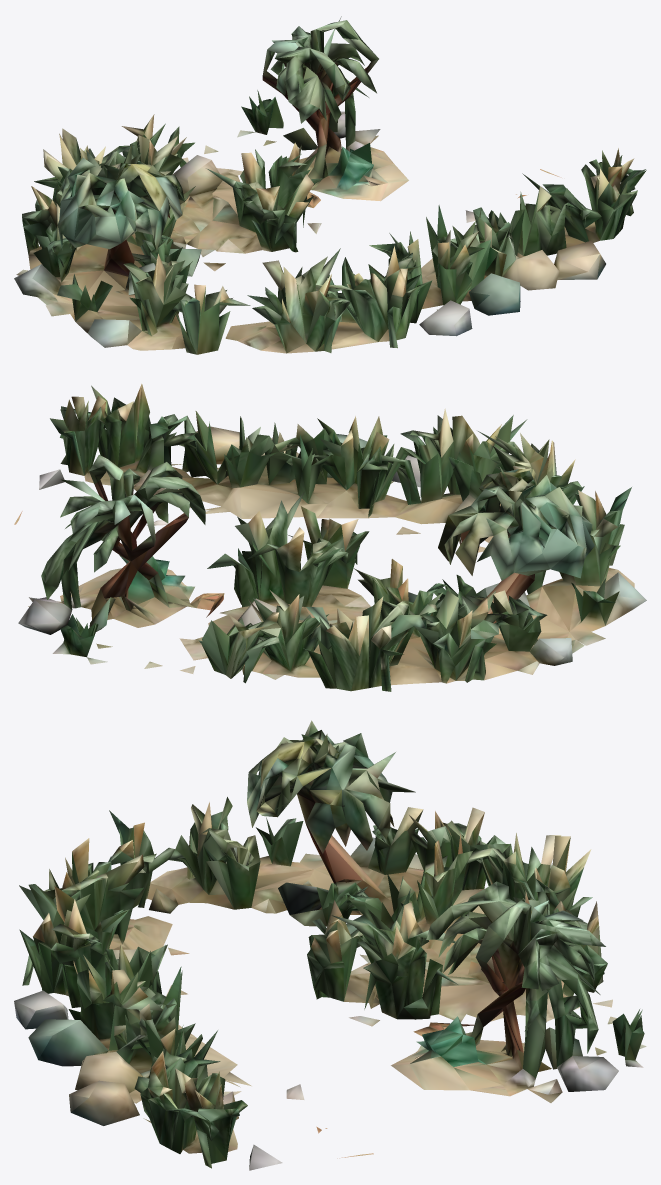
The model's file is marsh.glb.
The picture shows the model from 3 angles, top to bottom: view 1: azimuth 30°, elevation 25°; view 2: azimuth 150°, elevation 25°; view 3: azimuth 270°, elevation 25°; orthographic projection. The views are drawn at different scales.
Parts seen in each view (by area): view 1: tripo_node_370c8684-50b0-4260-8cc9-3094f6f4f79c; view 2: tripo_node_370c8684-50b0-4260-8cc9-3094f6f4f79c; view 3: tripo_node_370c8684-50b0-4260-8cc9-3094f6f4f79c.
Part boxes in pixels (<box>): tripo_node_370c8684-50b0-4260-8cc9-3094f6f4f79c: <box>14,16,646,354</box>; tripo_node_370c8684-50b0-4260-8cc9-3094f6f4f79c: <box>14,383,646,691</box>; tripo_node_370c8684-50b0-4260-8cc9-3094f6f4f79c: <box>14,720,646,1170</box>.
Bounding box in the file's own units: 24.36 × 6.12 × 20.38.
1 material, 1 textured.
